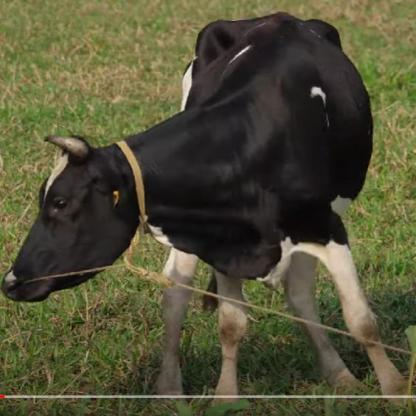cow: (2, 14, 410, 405)
